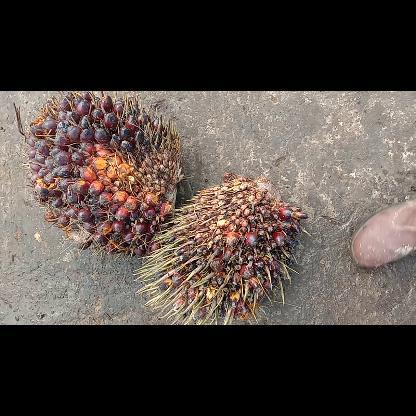Kurang masak: (20, 90, 184, 258)
TBS abnormal: (132, 172, 306, 324)
